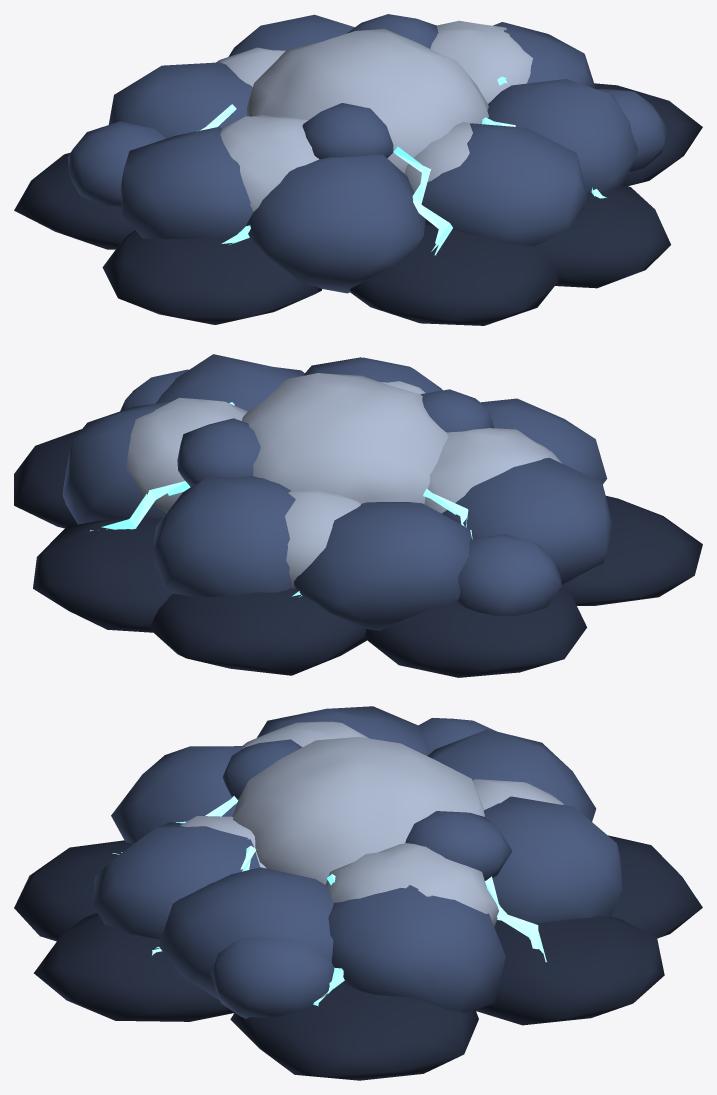
Rendered from Storm_Cloud.fbx.
3 views of the same model, one above another, from view 1: azimuth 30°, elevation 25°; view 2: azimuth 150°, elevation 25°; view 3: azimuth 270°, elevation 25° (orthographic). The views are drawn at different scales.
Parts seen in each view (by area): view 1: Storm_Cloud; view 2: Storm_Cloud; view 3: Storm_Cloud.
Part boxes in pixels (<box>): Storm_Cloud: <box>14,14,702,325</box>; Storm_Cloud: <box>14,354,702,677</box>; Storm_Cloud: <box>14,706,702,1080</box>.
Size of the model in its own units: 8.07 by 2.08 by 7.3.
